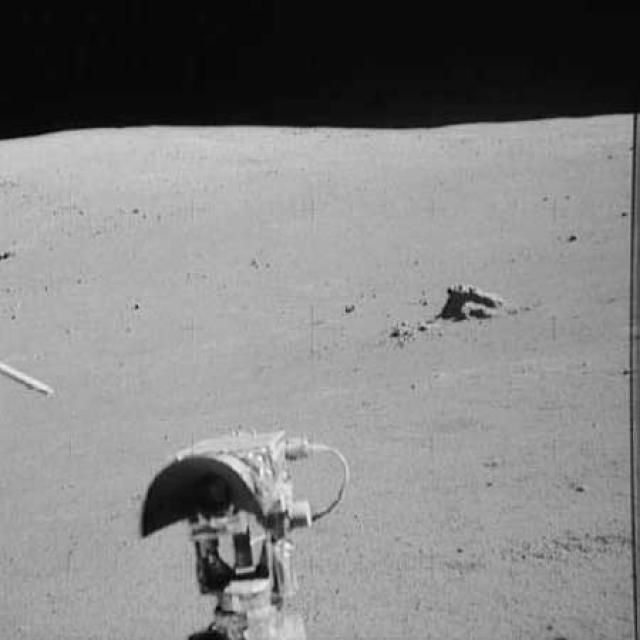artifact: (136, 422, 346, 639), (0, 360, 61, 407)
rock: (432, 274, 512, 330)
